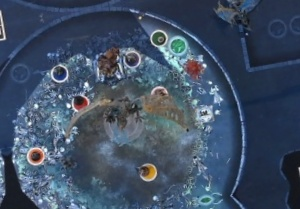blue: (45, 60, 71, 85)
green: (145, 25, 170, 49)
orange: (22, 141, 48, 170)
pink: (146, 81, 172, 105)
red: (65, 91, 91, 116)
violet: (119, 47, 145, 71)
yellow: (134, 159, 159, 184)
